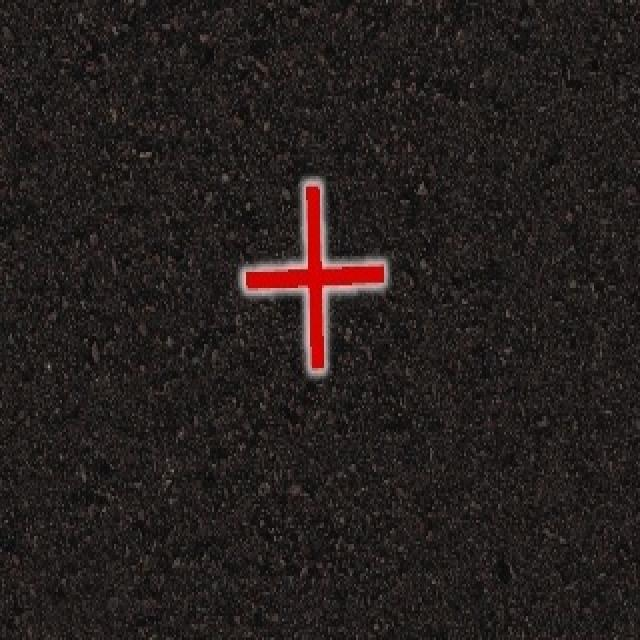x_marker: (243, 183, 383, 369)
